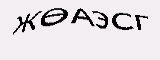Ө: (39, 6, 69, 28)
